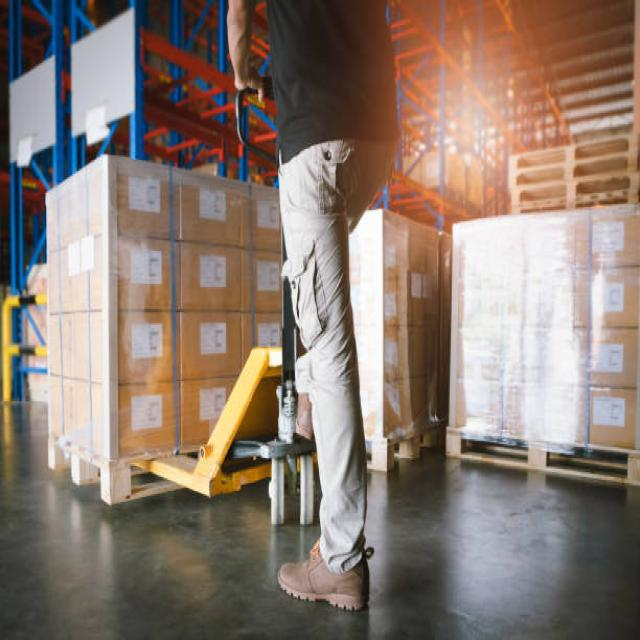Wooden-Pallets: (443, 426, 639, 495), (42, 431, 151, 511)
